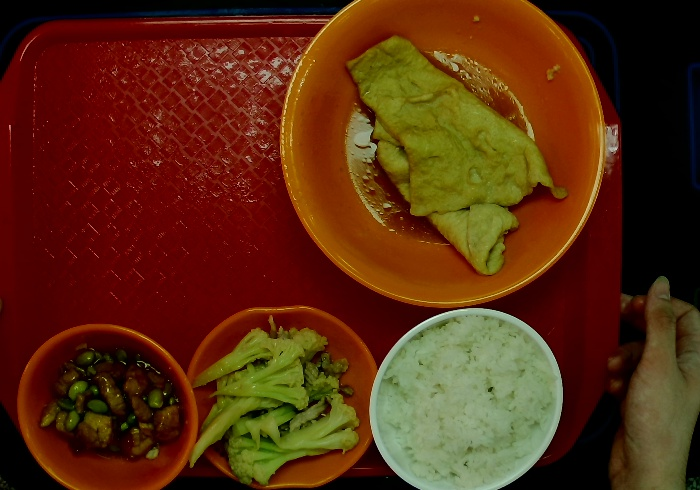YKMZ-Fan_Wan: (363, 308, 567, 490)
YKMZ-Ju_Se_Ao_Bian_Wan: (189, 302, 377, 490)
YKMZ-Ju_Se_Tang_Wan: (274, 1, 614, 306)
YKMZ-Ju_Se_Yuan_Wan: (18, 320, 202, 490)
